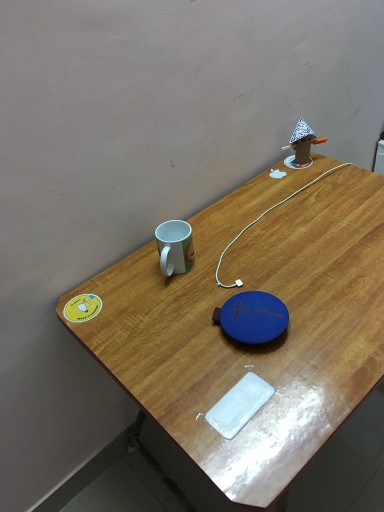cup: (154, 219, 195, 278)
speaker: (214, 290, 289, 345)
